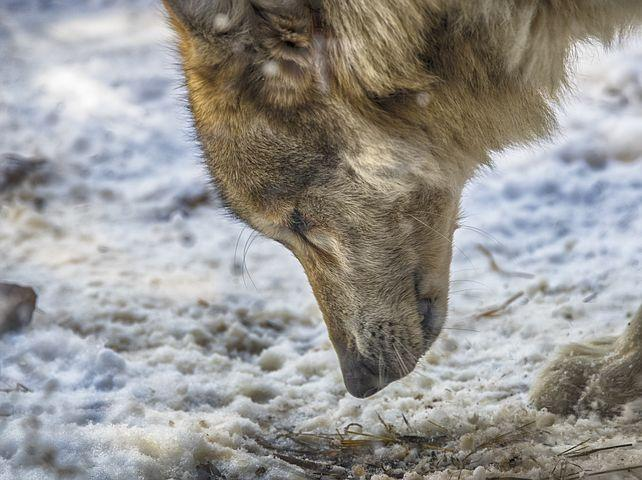Wolf: (155, 0, 642, 400)
